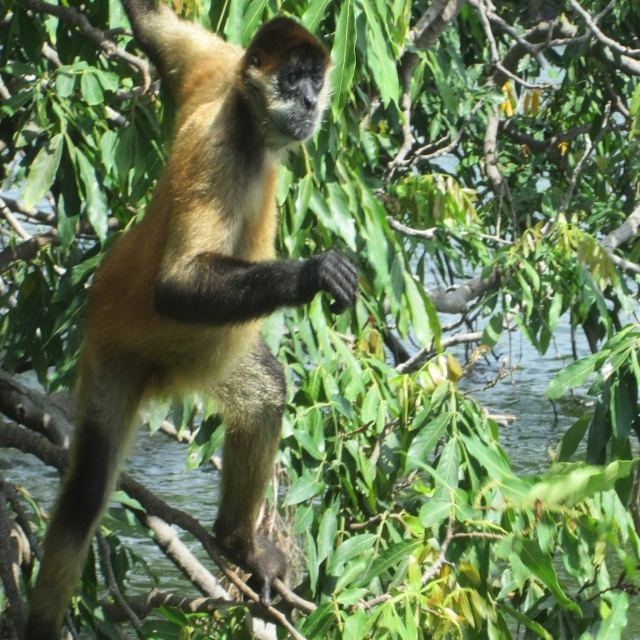Monkey: (24, 1, 361, 639)
